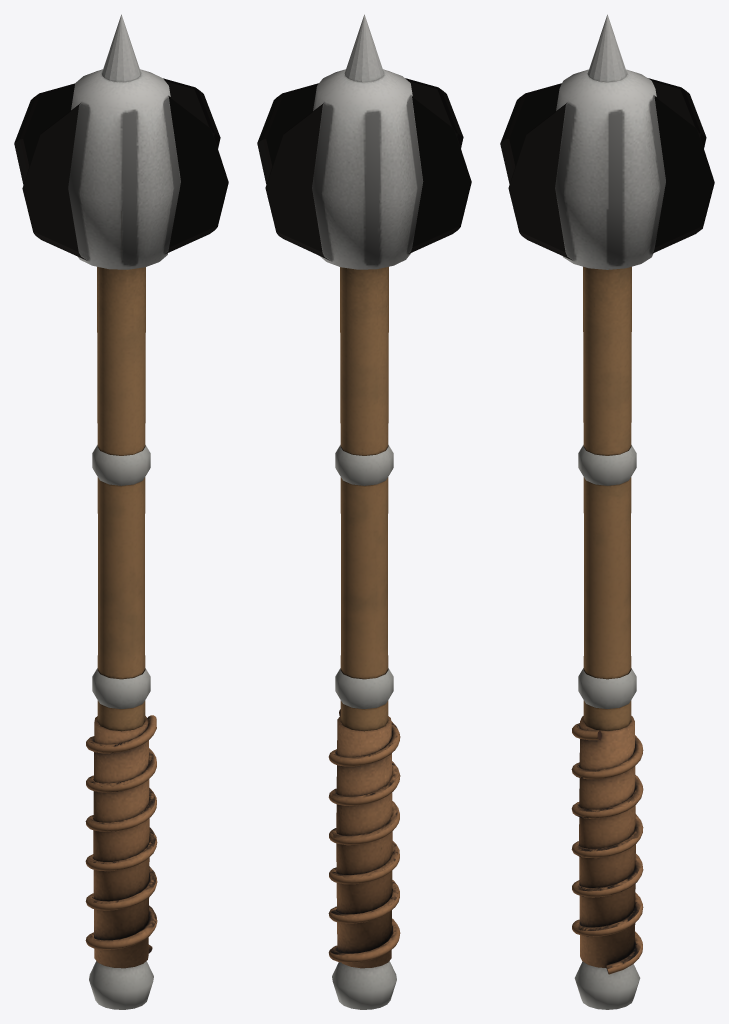
The model's file is arma_maca_comum.glb.
The picture shows the model from 3 angles, left to right: view 1: azimuth 30°, elevation 25°; view 2: azimuth 150°, elevation 25°; view 3: azimuth 270°, elevation 25°; orthographic projection.
Visible parts, largest first — view 1: arma_maca_comum; view 2: arma_maca_comum; view 3: arma_maca_comum.
Boxes of the visible parts, <box> form: arma_maca_comum: <box>14,14,228,1009</box>; arma_maca_comum: <box>257,14,471,1009</box>; arma_maca_comum: <box>500,14,714,1009</box>.
Size of the model in its own units: 0.1693 by 0.7988 by 0.1568.
Materials: 1 (1 with a texture image).
